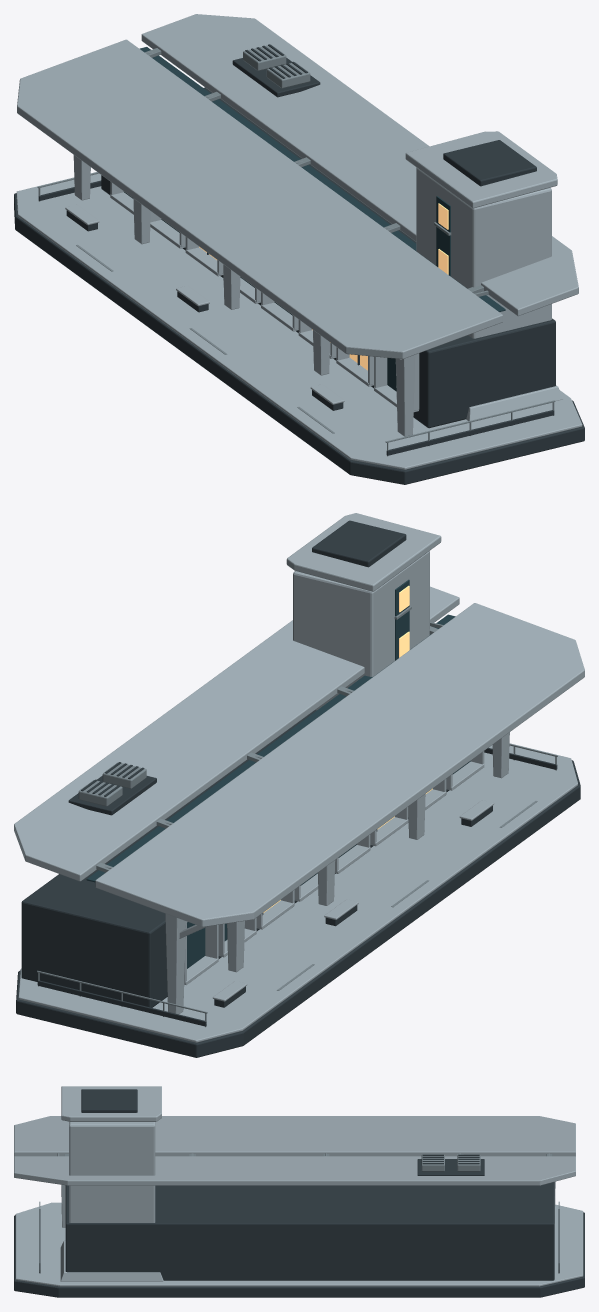
Rendered from Nocturne_TransitStation_A.fbx.
3 views of the same model, one above another, from view 1: azimuth 30°, elevation 25°; view 2: azimuth 150°, elevation 25°; view 3: azimuth 270°, elevation 25° (orthographic). The views are drawn at different scales.
Parts seen in each view (by area): view 1: Nocturne_TransitStation_A; view 2: Nocturne_TransitStation_A; view 3: Nocturne_TransitStation_A.
Part boxes in pixels (left/top/right/bottom): Nocturne_TransitStation_A: left=14, top=14, right=584, bottom=484; Nocturne_TransitStation_A: left=14, top=513, right=584, bottom=1057; Nocturne_TransitStation_A: left=14, top=1086, right=584, bottom=1297.
Bounding box in the file's own units: 23 × 22.35 × 64.
